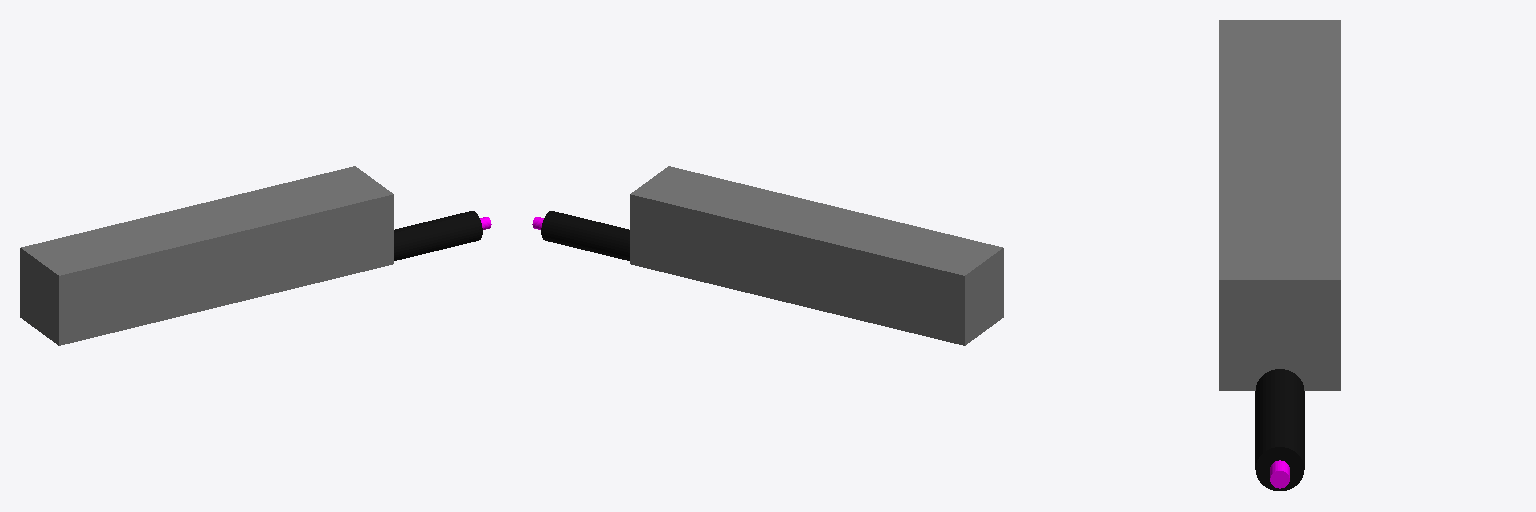
The robot description file, URDF, robot "gripper":
<?xml version="1.0" ?>
<robot name="gripper">
  <link name="baseLink">
    <inertial>
      <origin rpy="0 0 0" xyz="0 0 0"/>
       <mass value="0.1"/>
       <inertia ixx="0.1" ixy="0" ixz="0" iyy="0.1" iyz="0" izz="0.1"/>
    </inertial>
    <visual>
      <origin rpy="0 0 0" xyz="0 0.0 0.0"/>
      <geometry>
			<mesh filename="tool_mesh/base_kim.stl" scale="0.0025 0.001 0.001"/>
      </geometry>
       <material name="grey">
        <color rgba="0.5 0.5 0.5 1.0"/>
      </material>
    </visual>
  </link>

  <joint name="gripping_trafo" type="fixed">
		<parent link="baseLink"/>
		<child link="head"/>
		<origin xyz="0.05 0.0 0.0" rpy="0 -1.57 0"/>
  </joint>

  <link name="head">
    <visual>
        <origin xyz="0 0 0" rpy="0 0 0"/>
        <geometry>
           <cylinder length="0.10" radius="0.005"/>
        </geometry>
        <material name="black">
            <color rgba="0.1 0.1 0.1 1.0"/>
        </material>
    </visual>

  </link>

  <joint name="milling_trafo" type="fixed">
		<parent link="head"/>
		<child link="tcp"/>
		<origin xyz="0 0 -0.05" rpy="0 0 0"/>
	</joint> 

  <link name="tcp">
  <visual>
    <origin xyz="0 0 0" rpy="0 0 0"/>
    <material name="almost_black">
          <color rgba="1 0 1 1"/>
    </material>
    <geometry>
      <cylinder length="0.01" radius="0.002"/>
    </geometry>
  </visual>
  </link>

</robot>

--- Render facts (derived) ---
3 views of the same robot in one strip: view 1: azimuth 30°, elevation 25°; view 2: azimuth 150°, elevation 25°; view 3: azimuth 270°, elevation 25° (orthographic).
Model gripper with 3 links and 2 joints (2 fixed), rooted at baseLink, posed every joint at zero.
Links seen in each view (by area): view 1: baseLink, head; view 2: baseLink, head; view 3: baseLink, head.
Link boxes in pixels (left/top/right/bottom): baseLink: left=20, top=166, right=393, bottom=345; head: left=394, top=211, right=482, bottom=260; baseLink: left=630, top=166, right=1003, bottom=345; head: left=541, top=211, right=629, bottom=260; baseLink: left=1219, top=20, right=1340, bottom=390; head: left=1255, top=369, right=1304, bottom=490.
Size in the robot's own frame: 0.1675 by 0.025 by 0.03 metres.
1 mesh visuals loaded from 1 distinct referenced files (1 binary STL).
